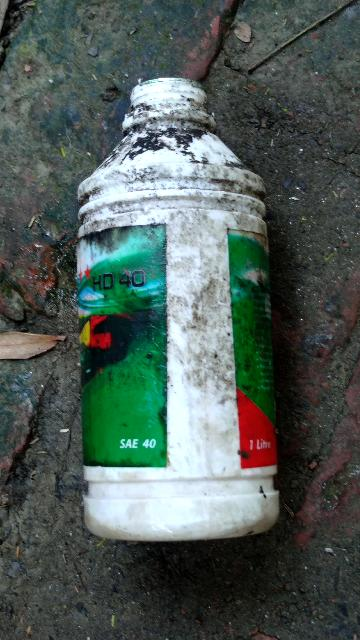bottle: (63, 63, 289, 548)
